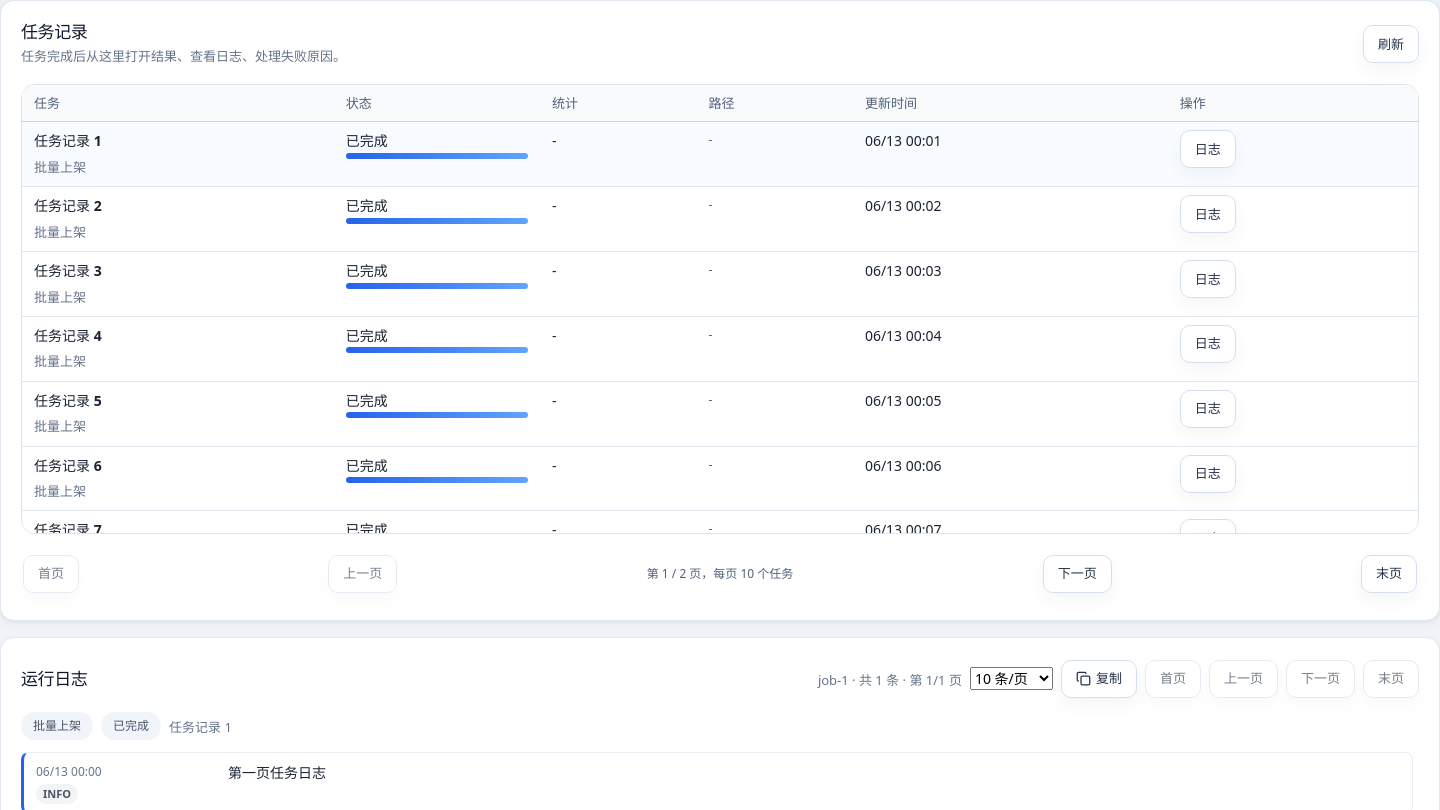
JobsPage › paginates task records with ten rows by default
Expected: the text "任务记录 1" is shown 2 times, [34,132,102,150]; [169,717,232,738]
Expected: the text "任务记录 11" is not shown
Click the button "下一页" in the row of "页，每页 10 个任务" at (1077, 574), box [1043,555,1112,593]
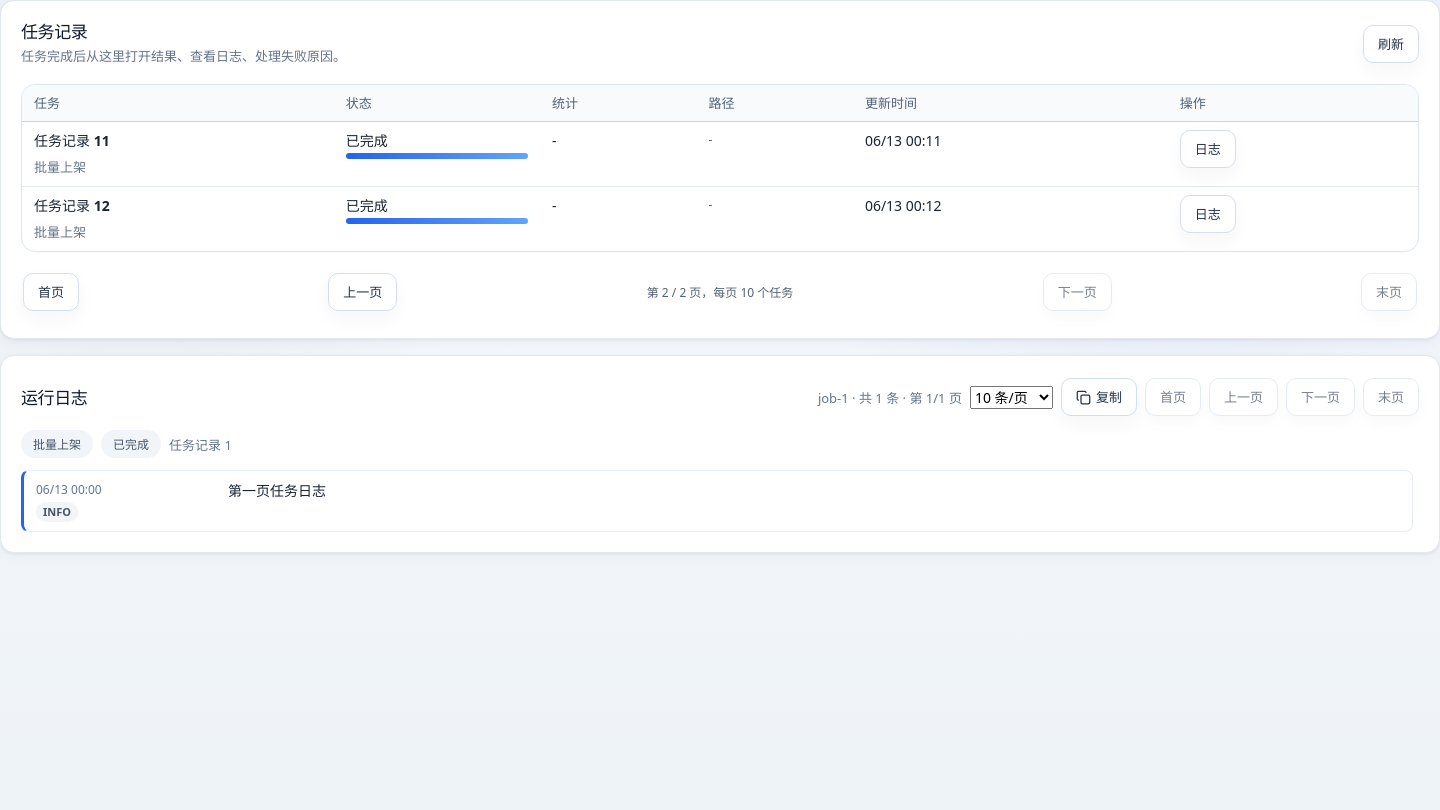
Now the text "任务记录 11" is shown, box [34,132,110,150]
Now the text "任务记录 12" is shown, box [34,196,110,215]
